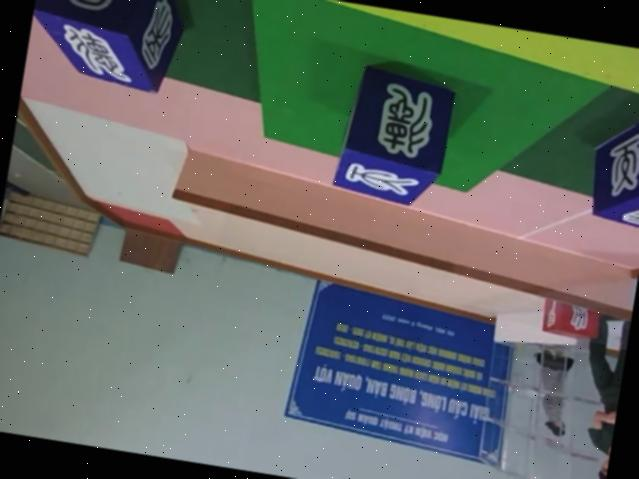R2 Fake Blue: (328, 57, 457, 206), (23, 0, 190, 92), (586, 90, 639, 226)
